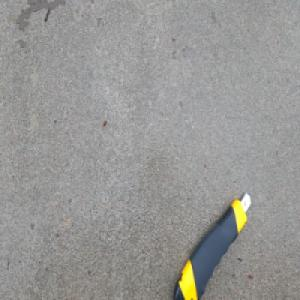Cutter: (170, 190, 251, 300)
